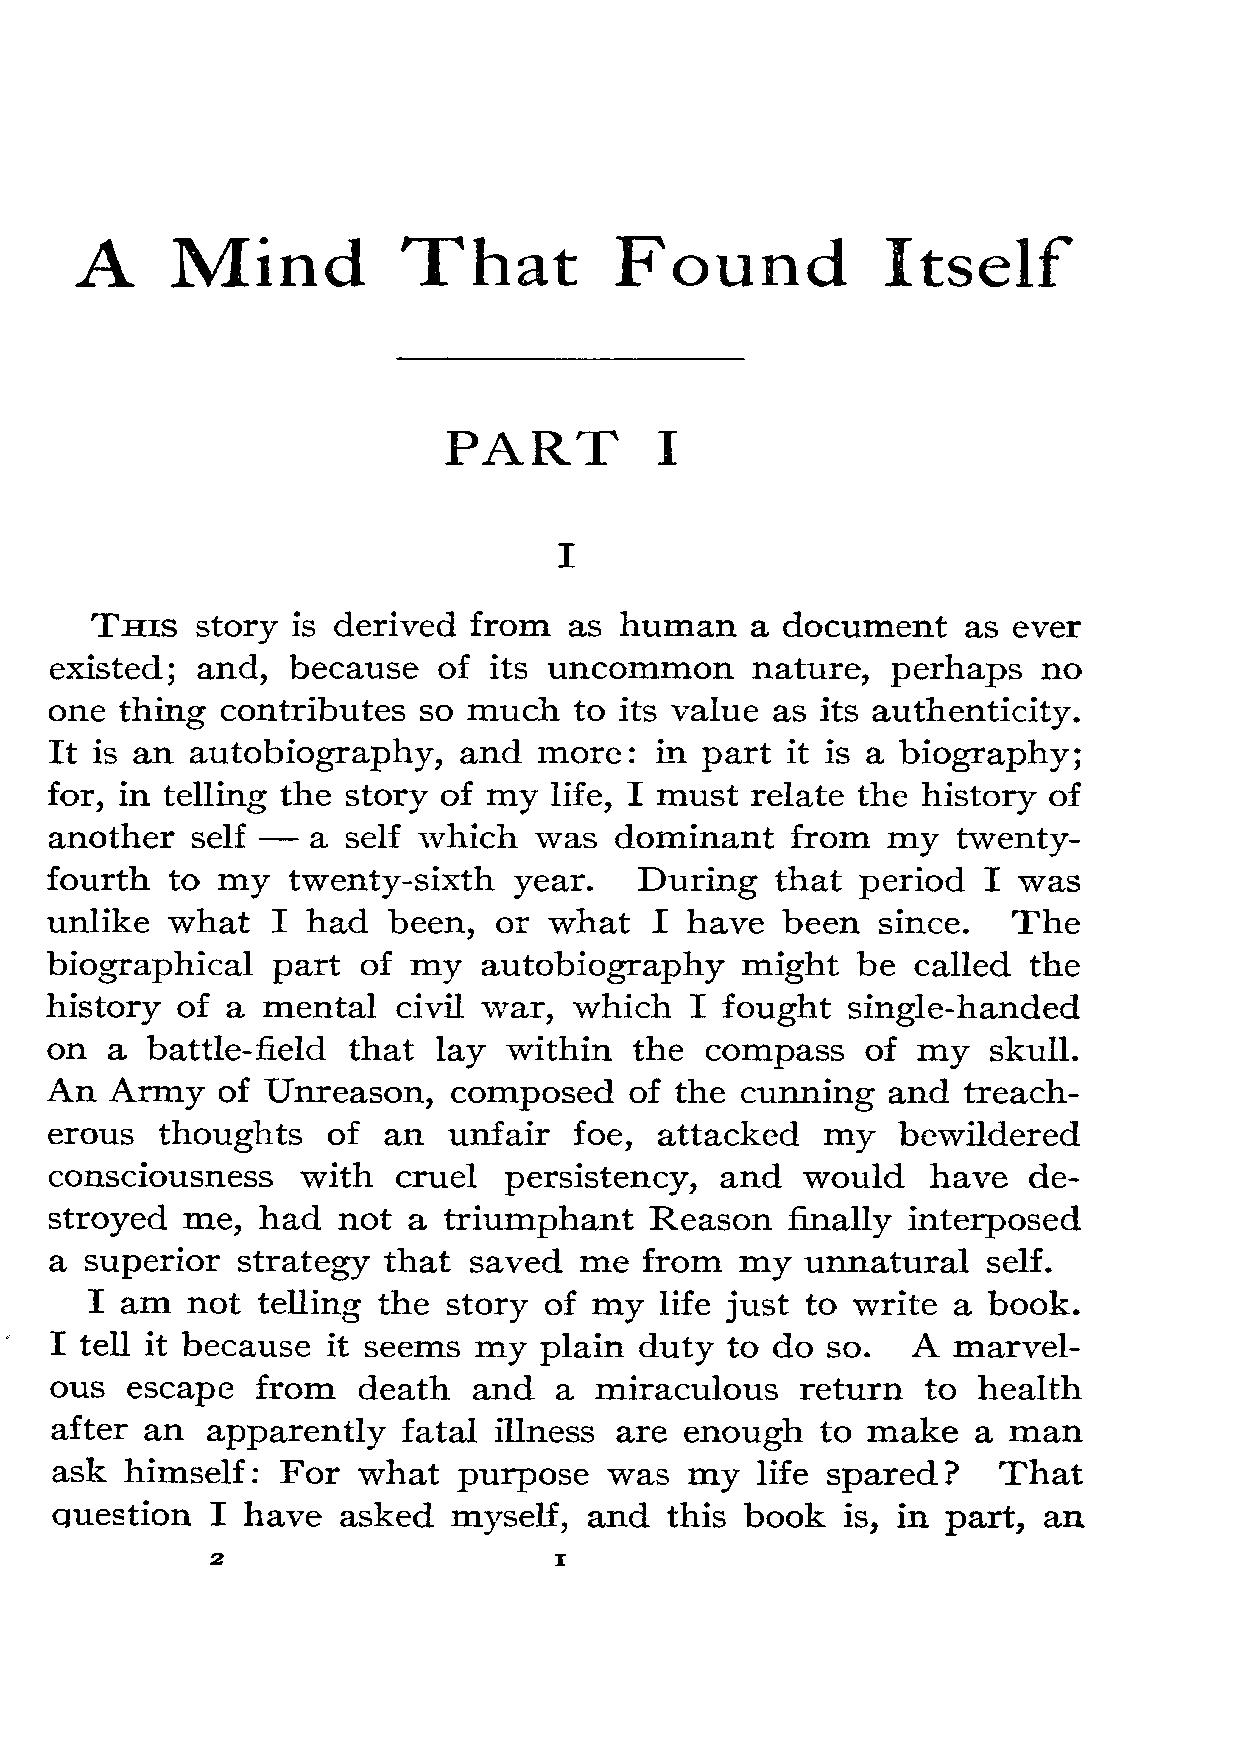chapter: (72, 229, 1070, 293), (444, 425, 680, 472)
content: (44, 609, 1084, 1539)
content_pagenumber: (550, 1551, 568, 1570)
